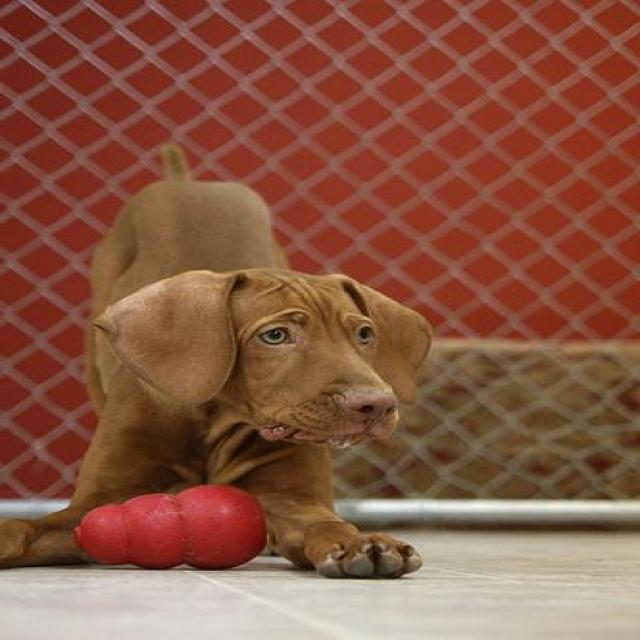vizsla: (4, 144, 432, 576)
